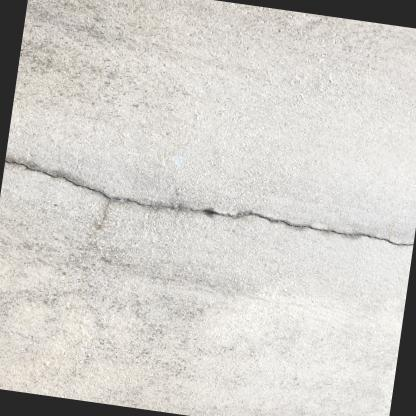crack: (5, 159, 413, 244)
